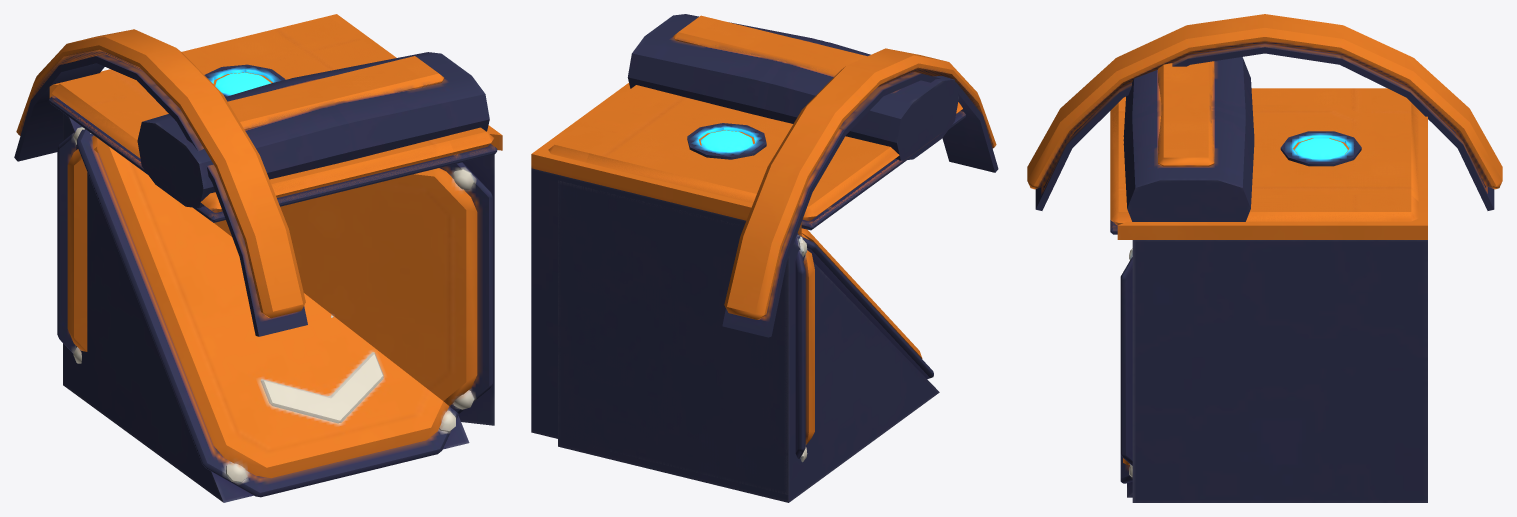
The model's file is R4H_HullKit.fbx.
The picture shows the model from 3 angles, left to right: view 1: azimuth 30°, elevation 25°; view 2: azimuth 150°, elevation 25°; view 3: azimuth 270°, elevation 25°; orthographic projection. The views are drawn at different scales.
Parts seen in each view (by area): view 1: ramp, cheek, lip, nose_2, nose_1, nose_0, plate_04, plate_10, plate_08, plate_06, plate_05, plate_13 (+10 smaller); view 2: cheek, ramp, lip, plate_06, nose_1, nose_2, plate_04, plate_13, nose_0, plate_07, nose_3, plate_12 (+6 smaller); view 3: cheek, lip, nose_1, plate_04, nose_0, plate_06, plate_13, nose_2, plate_01, plate_02, plate_05, plate_09 (+9 smaller).
Part boxes in pixels (box(x1,y1,x2,y2)): ramp: box(63, 113, 469, 502); cheek: box(49, 14, 502, 425); lip: box(14, 29, 307, 336); nose_2: box(137, 60, 423, 208); nose_1: box(228, 52, 489, 159); nose_0: box(204, 60, 423, 130); plate_04: box(97, 26, 346, 117); plate_10: box(64, 53, 470, 222); plate_08: box(270, 141, 470, 204); plate_06: box(48, 28, 347, 209); plate_05: box(100, 17, 382, 115); plate_13: box(188, 18, 495, 205); cheek: box(531, 83, 814, 494); ramp: box(558, 180, 939, 502); lip: box(722, 48, 998, 337); plate_06: box(589, 94, 951, 229); nose_1: box(627, 14, 866, 115); nose_2: box(696, 20, 958, 160); plate_04: box(585, 94, 786, 202); plate_13: box(555, 85, 853, 192); nose_0: box(687, 20, 866, 159); plate_07: box(552, 89, 899, 230); nose_3: box(673, 16, 840, 117); plate_12: box(656, 99, 852, 192); cheek: box(1117, 110, 1427, 502); lip: box(1027, 14, 1502, 210); nose_1: box(1123, 64, 1254, 221); plate_04: box(1251, 105, 1418, 201); nose_0: box(1158, 64, 1361, 166); plate_06: box(1252, 88, 1418, 199); plate_13: box(1110, 105, 1411, 233); nose_2: box(1123, 57, 1254, 151); plate_01: box(1250, 105, 1371, 211); plate_02: box(1251, 88, 1371, 194); plate_05: box(1246, 105, 1418, 221); plate_09: box(1110, 105, 1371, 228).
Bounding box in the file's own units: 56.5 × 72.65 × 84.51.
